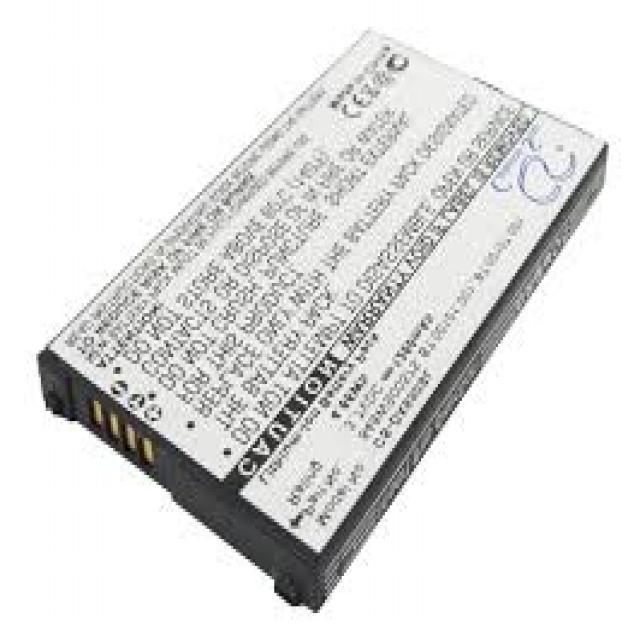battery: (35, 21, 610, 614)
